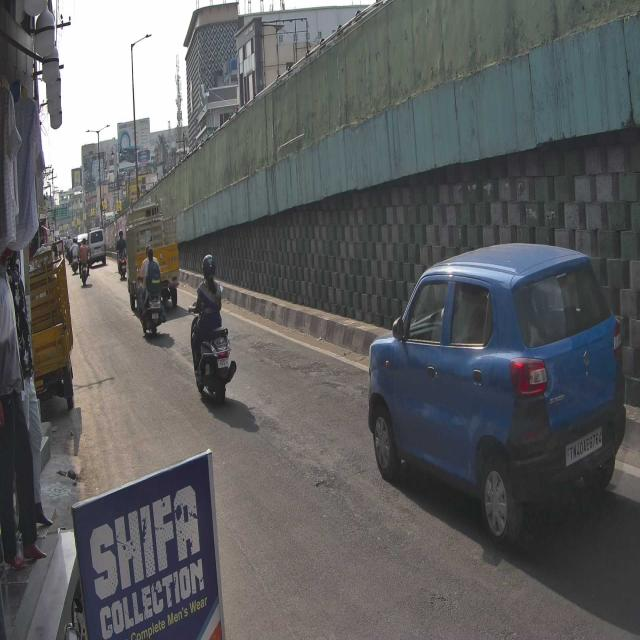single_rider: (187, 255, 238, 406)
